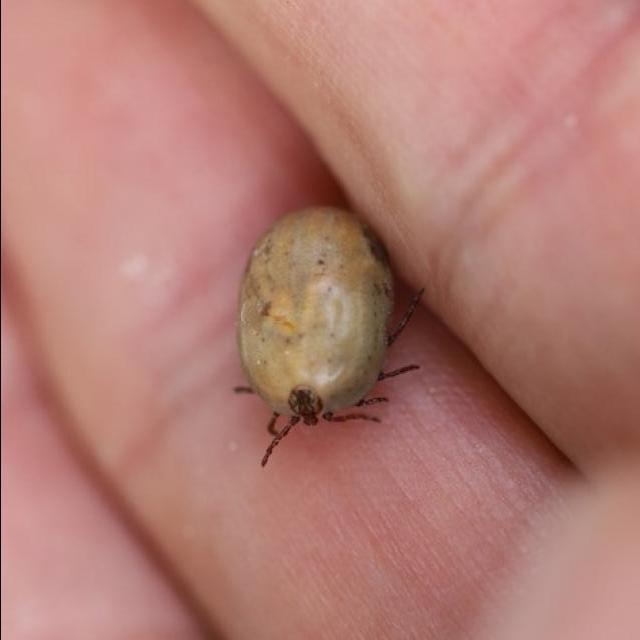Dermacentor Reticulatus-F-Fed: (232, 206, 424, 468)
